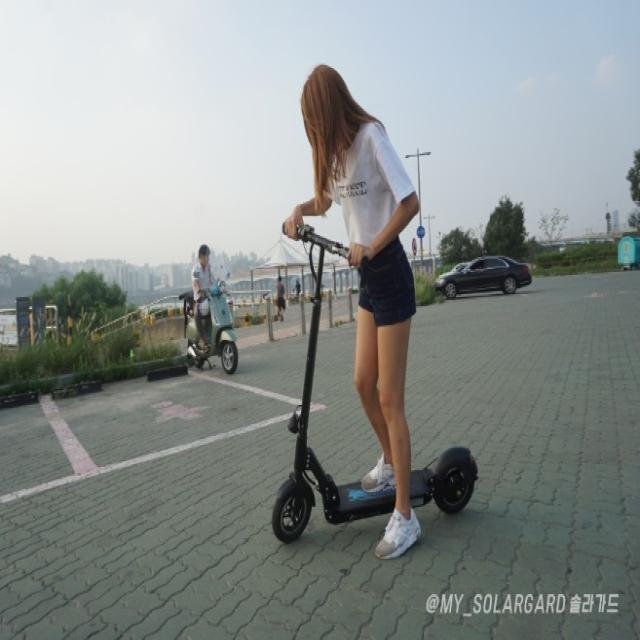non-helmet: (235, 23, 501, 576)
